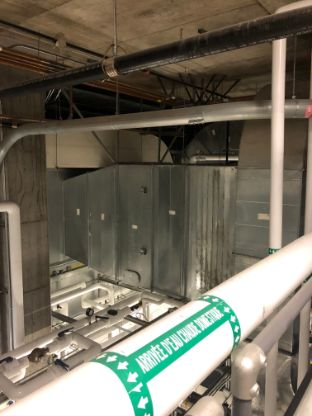Duct: (48, 159, 240, 302), (1, 71, 52, 334), (235, 112, 306, 265)
